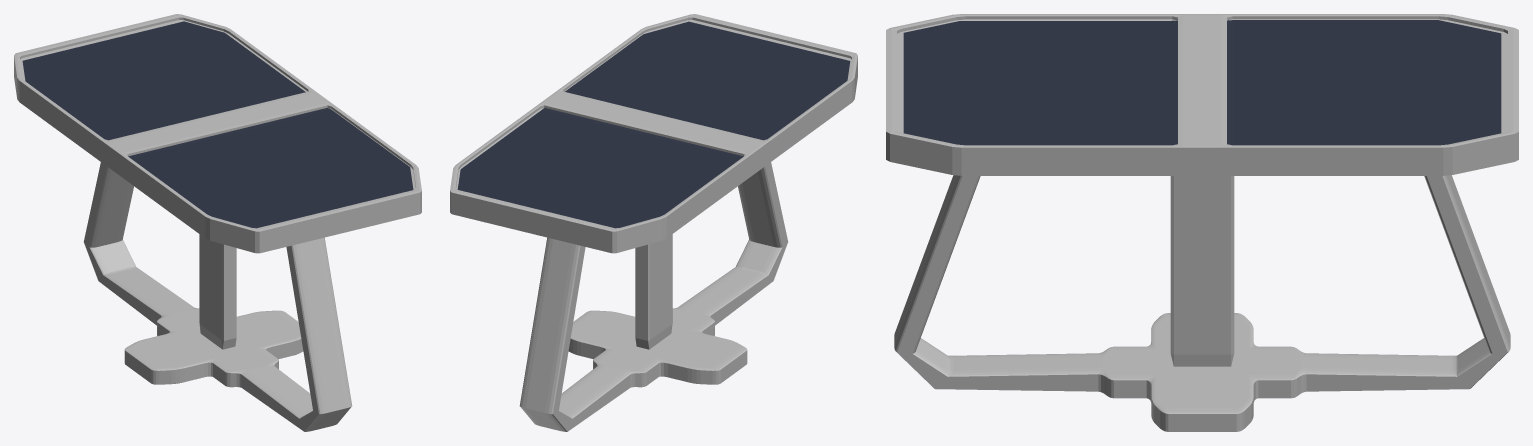
Rendered from table 1.fbx.
3 renders of one model, left to right at view 1: azimuth 30°, elevation 25°; view 2: azimuth 150°, elevation 25°; view 3: azimuth 270°, elevation 25°, orthographic. The views are drawn at different scales.
Visible parts, largest first — view 1: Cube.002; view 2: Cube.002; view 3: Cube.002.
Part boxes in pixels (x1,y1,x2,y2): Cube.002: [14, 14, 421, 431]; Cube.002: [450, 14, 857, 431]; Cube.002: [886, 14, 1518, 431].
Size of the model in its own units: 2 by 1 by 1.05.
